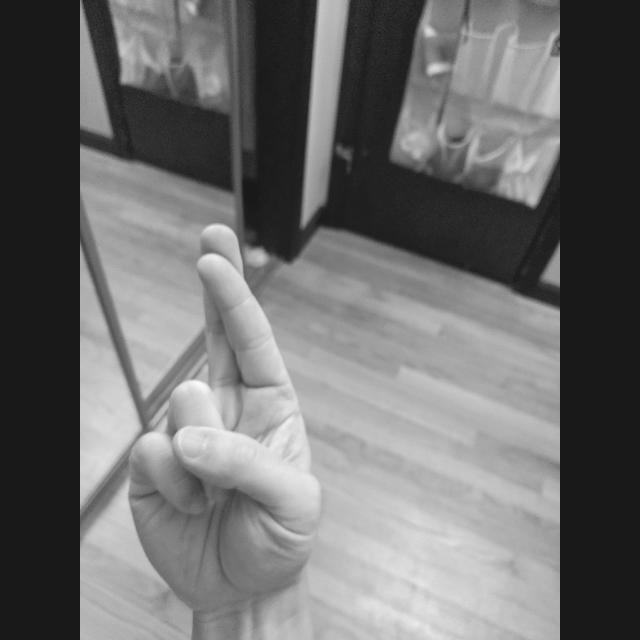R: (122, 218, 330, 616)
